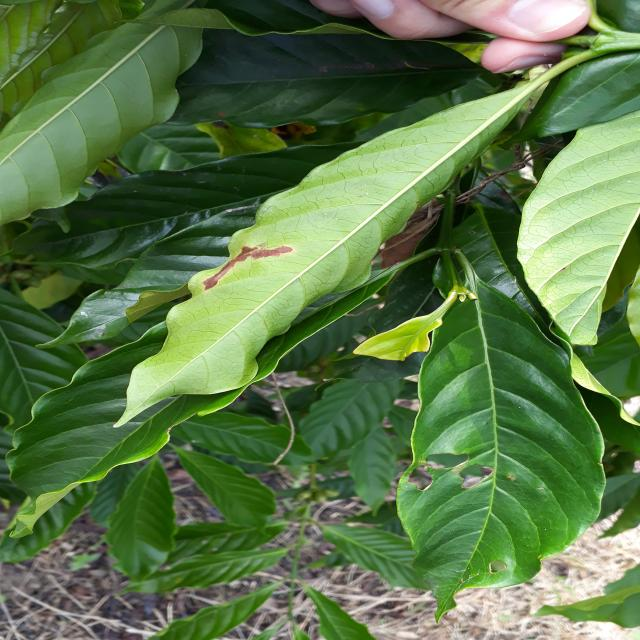Plaga-AranaRoja: (121, 72, 555, 424)
